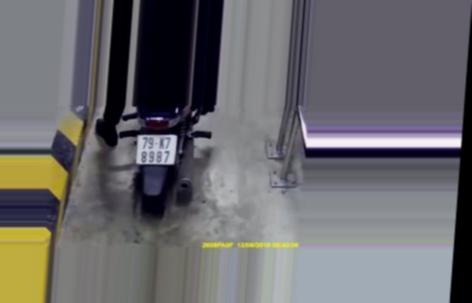License_Plate: (132, 133, 180, 166)
